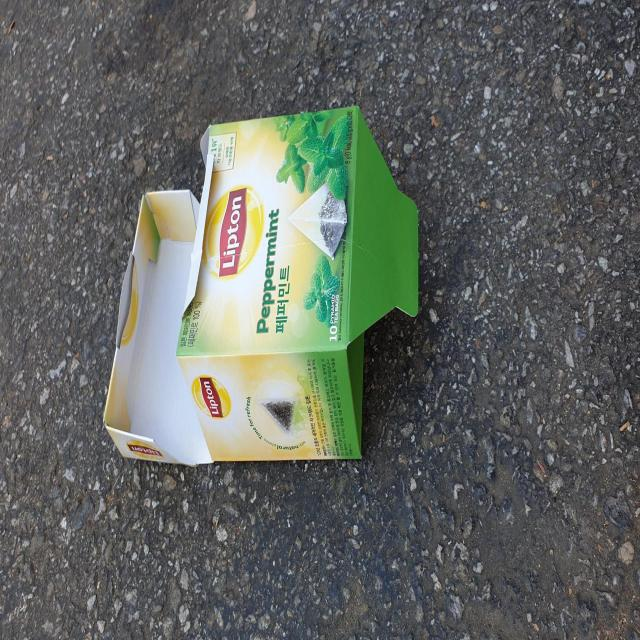paperpack: (103, 105, 419, 465)
